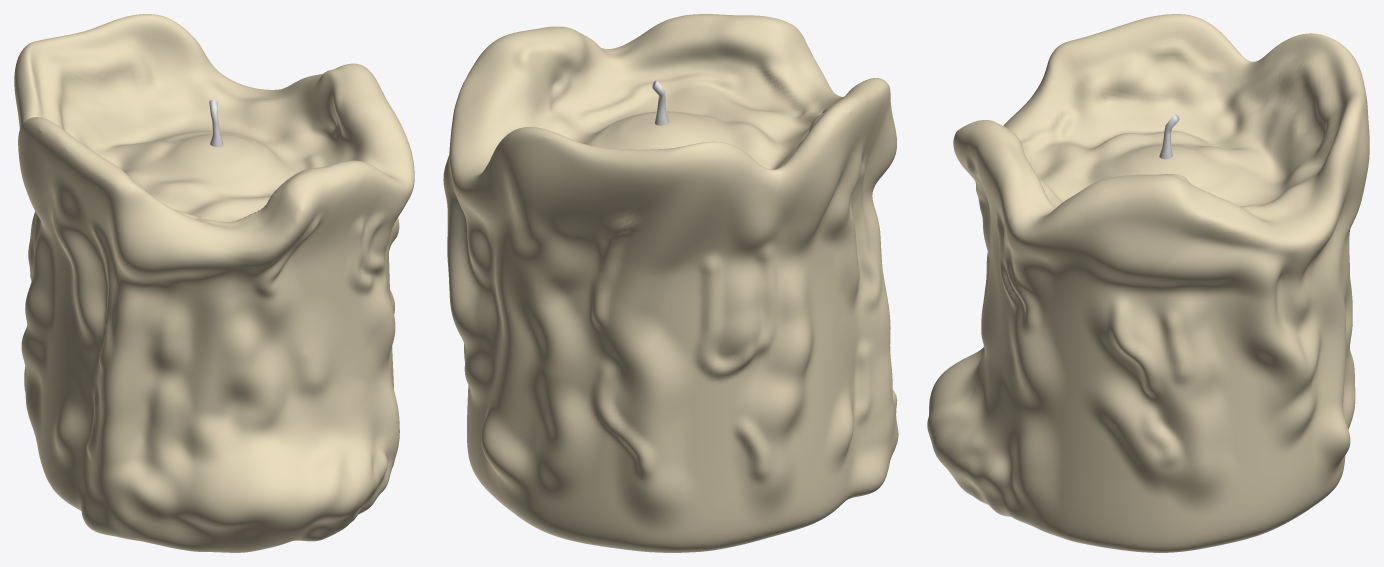
Rendered from Candles.fbx.
The picture shows the model from 3 angles, left to right: view 1: azimuth 30°, elevation 25°; view 2: azimuth 150°, elevation 25°; view 3: azimuth 270°, elevation 25°; orthographic projection. The views are drawn at different scales.
Visible parts, largest first — view 1: Cylinder; view 2: Cylinder; view 3: Cylinder.
Part boxes in pixels (<box>): Cylinder: <box>14,14,414,552</box>; Cylinder: <box>443,14,898,552</box>; Cylinder: <box>927,14,1369,552</box>.
Size of the model in its own units: 2.15 by 2.38 by 2.39.
